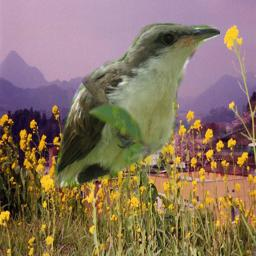Cuckoo: (52, 22, 220, 192)
